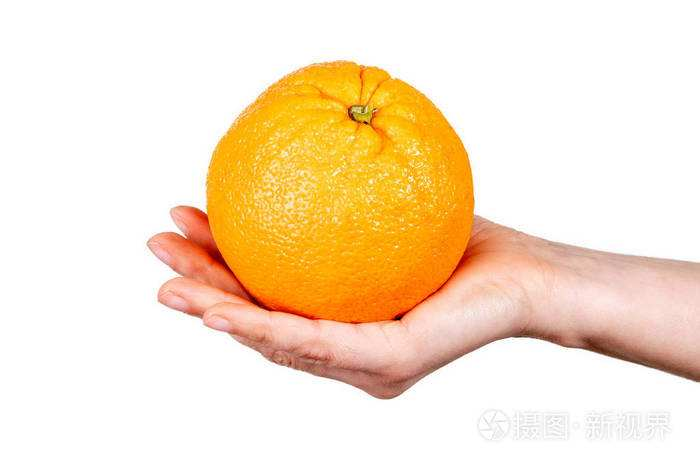no-phone: (148, 63, 618, 402)
